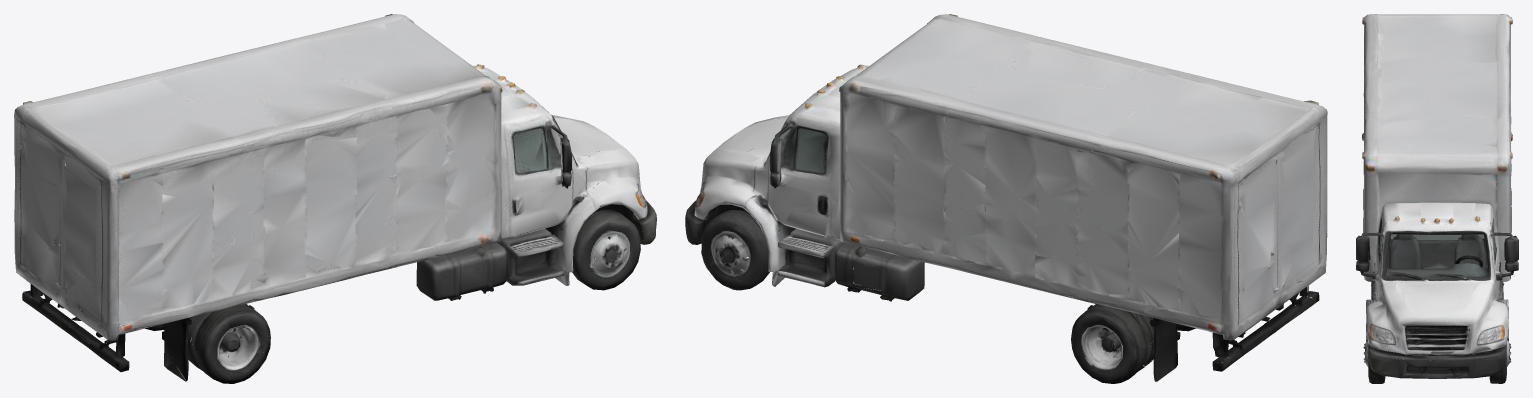
The picture shows the model from 3 angles, left to right: view 1: azimuth 30°, elevation 25°; view 2: azimuth 150°, elevation 25°; view 3: azimuth 270°, elevation 25°; orthographic projection. The views are drawn at different scales.
Parts seen in each view (by area): view 1: tripo_node_e98943fb-e5ca-40cf-a53a-c3413988f47d; view 2: tripo_node_e98943fb-e5ca-40cf-a53a-c3413988f47d; view 3: tripo_node_e98943fb-e5ca-40cf-a53a-c3413988f47d.
Part boxes in pixels (<box>): tripo_node_e98943fb-e5ca-40cf-a53a-c3413988f47d: <box>14,14,656,383</box>; tripo_node_e98943fb-e5ca-40cf-a53a-c3413988f47d: <box>685,14,1327,383</box>; tripo_node_e98943fb-e5ca-40cf-a53a-c3413988f47d: <box>1356,14,1518,383</box>.
Bounding box in the file's own units: 7.9 × 3.22 × 2.59.
1 material, 1 textured.
